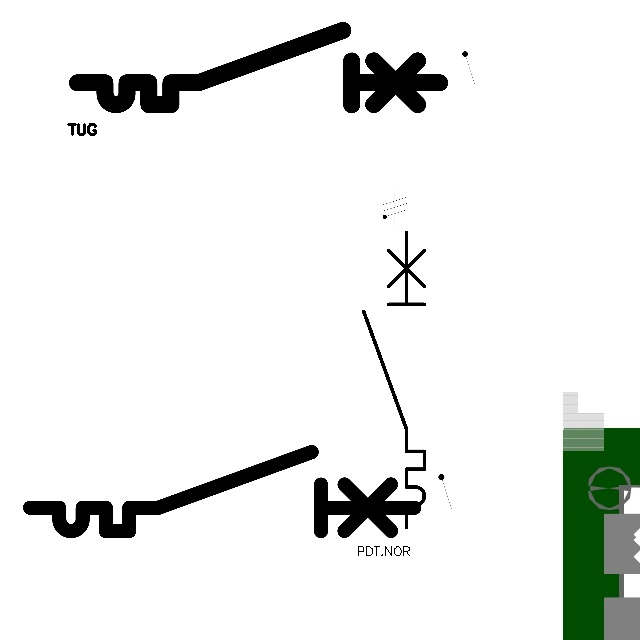interruptor_termomagnetico: (20, 442, 424, 541), (68, 21, 449, 114), (356, 225, 432, 535)
